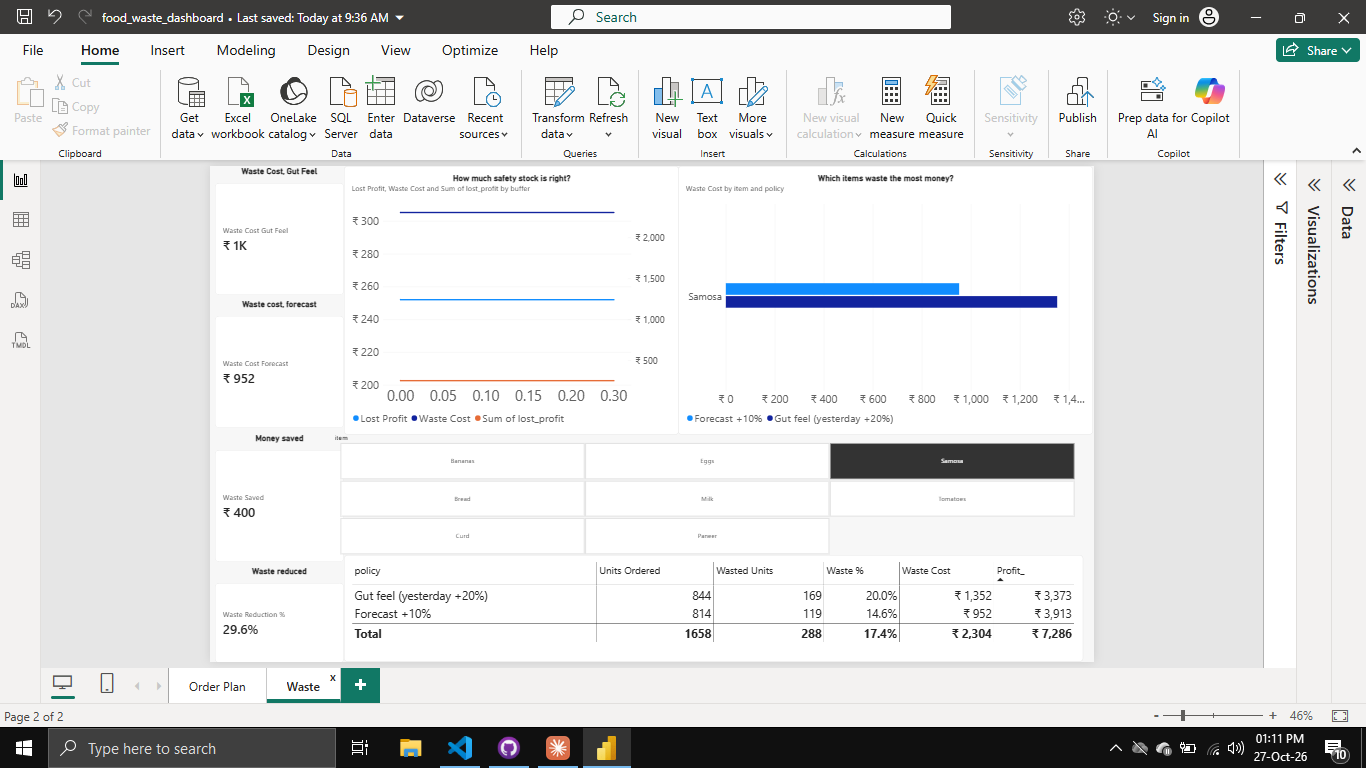

The dashboard page shown, as its layout file describes it:
{"tool":"powerbi","page":{"name":"Waste","canvas":[1920,1080],"ordinal":1},"visuals":[{"type":"cardVisual","title":"Waste Cost, Gut Feel","fields":{"Data":["waste_daily.Waste Cost Gut Feel"]},"box":[10,0,280,280],"z":0},{"type":"cardVisual","title":"Waste cost, forecast","fields":{"Data":["waste_daily.Waste Cost Forecast"]},"box":[10,290,280,280],"z":1},{"type":"cardVisual","title":"Money saved","fields":{"Data":["waste_daily.Waste Saved"]},"box":[10,580,280,280],"z":2},{"type":"cardVisual","title":"Waste reduced","fields":{"Data":["waste_daily.Waste Reduction %"]},"box":[10,870,280,210],"z":3},{"type":"clusteredBarChart","title":"Which items waste the most money?","fields":{"Category":["items.item"],"Series":["waste_daily.policy"],"Y":["waste_daily.Waste Cost"]},"box":[1018.1,0,901.9,583.6],"z":4},{"type":"lineChart","title":"How much safety stock is right?","fields":{"Category":["buffer_sweep.buffer"],"Y":["waste_daily.Lost Profit"],"Y2":["waste_daily.Waste Cost","Sum(waste_daily.lost_profit)"]},"box":[290.5,0,727.6,583.6],"z":5},{"type":"tableEx","fields":{"Values":["waste_daily.policy","waste_daily.Units Ordered","waste_daily.Wasted Units","waste_daily.Waste %","waste_daily.Waste Cost","waste_daily.Profit_"]},"box":[290.5,846.3,1606.7,232.4],"z":6},{"type":"slicer","fields":{"Values":["items.item"]},"box":[262.7,583.6,1634.5,262.7],"z":7}]}

Visuals, with their boxes on the page's 1920x1080 design canvas (x1, y1, x2, y2). These are canvas units, not pixel positions in the 1366x768 screenshot, which may show the page scaled, cropped or inside an application window:
"Waste Cost, Gut Feel" cardVisual: bbox(10, 0, 290, 280)
"Waste cost, forecast" cardVisual: bbox(10, 290, 290, 570)
"Money saved" cardVisual: bbox(10, 580, 290, 860)
"Waste reduced" cardVisual: bbox(10, 870, 290, 1080)
"Which items waste the most money?" clusteredBarChart: bbox(1018, 0, 1920, 584)
"How much safety stock is right?" lineChart: bbox(290, 0, 1018, 584)
tableEx - waste_daily.policy x waste_daily.Units Ordered: bbox(290, 846, 1897, 1079)
slicer - items.item: bbox(263, 584, 1897, 846)
